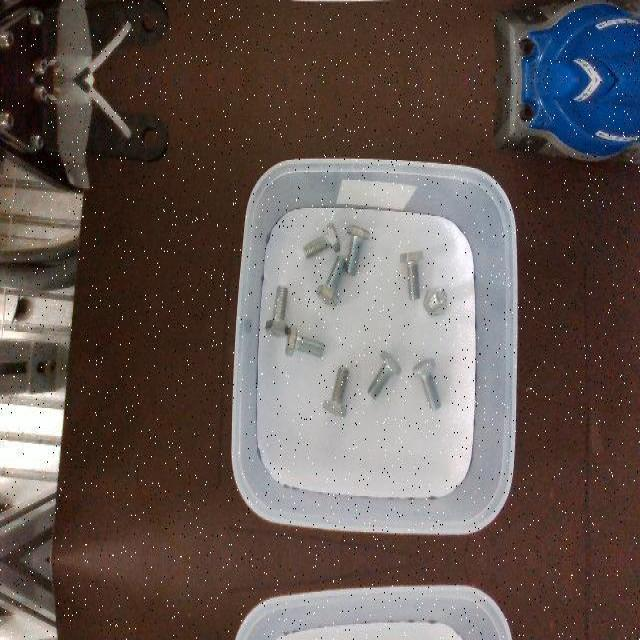screw: (367, 350, 401, 400), (316, 254, 347, 306), (344, 223, 371, 273), (285, 326, 326, 358), (265, 285, 290, 337), (323, 365, 348, 417), (303, 222, 339, 258), (400, 250, 423, 298), (424, 286, 447, 316)
